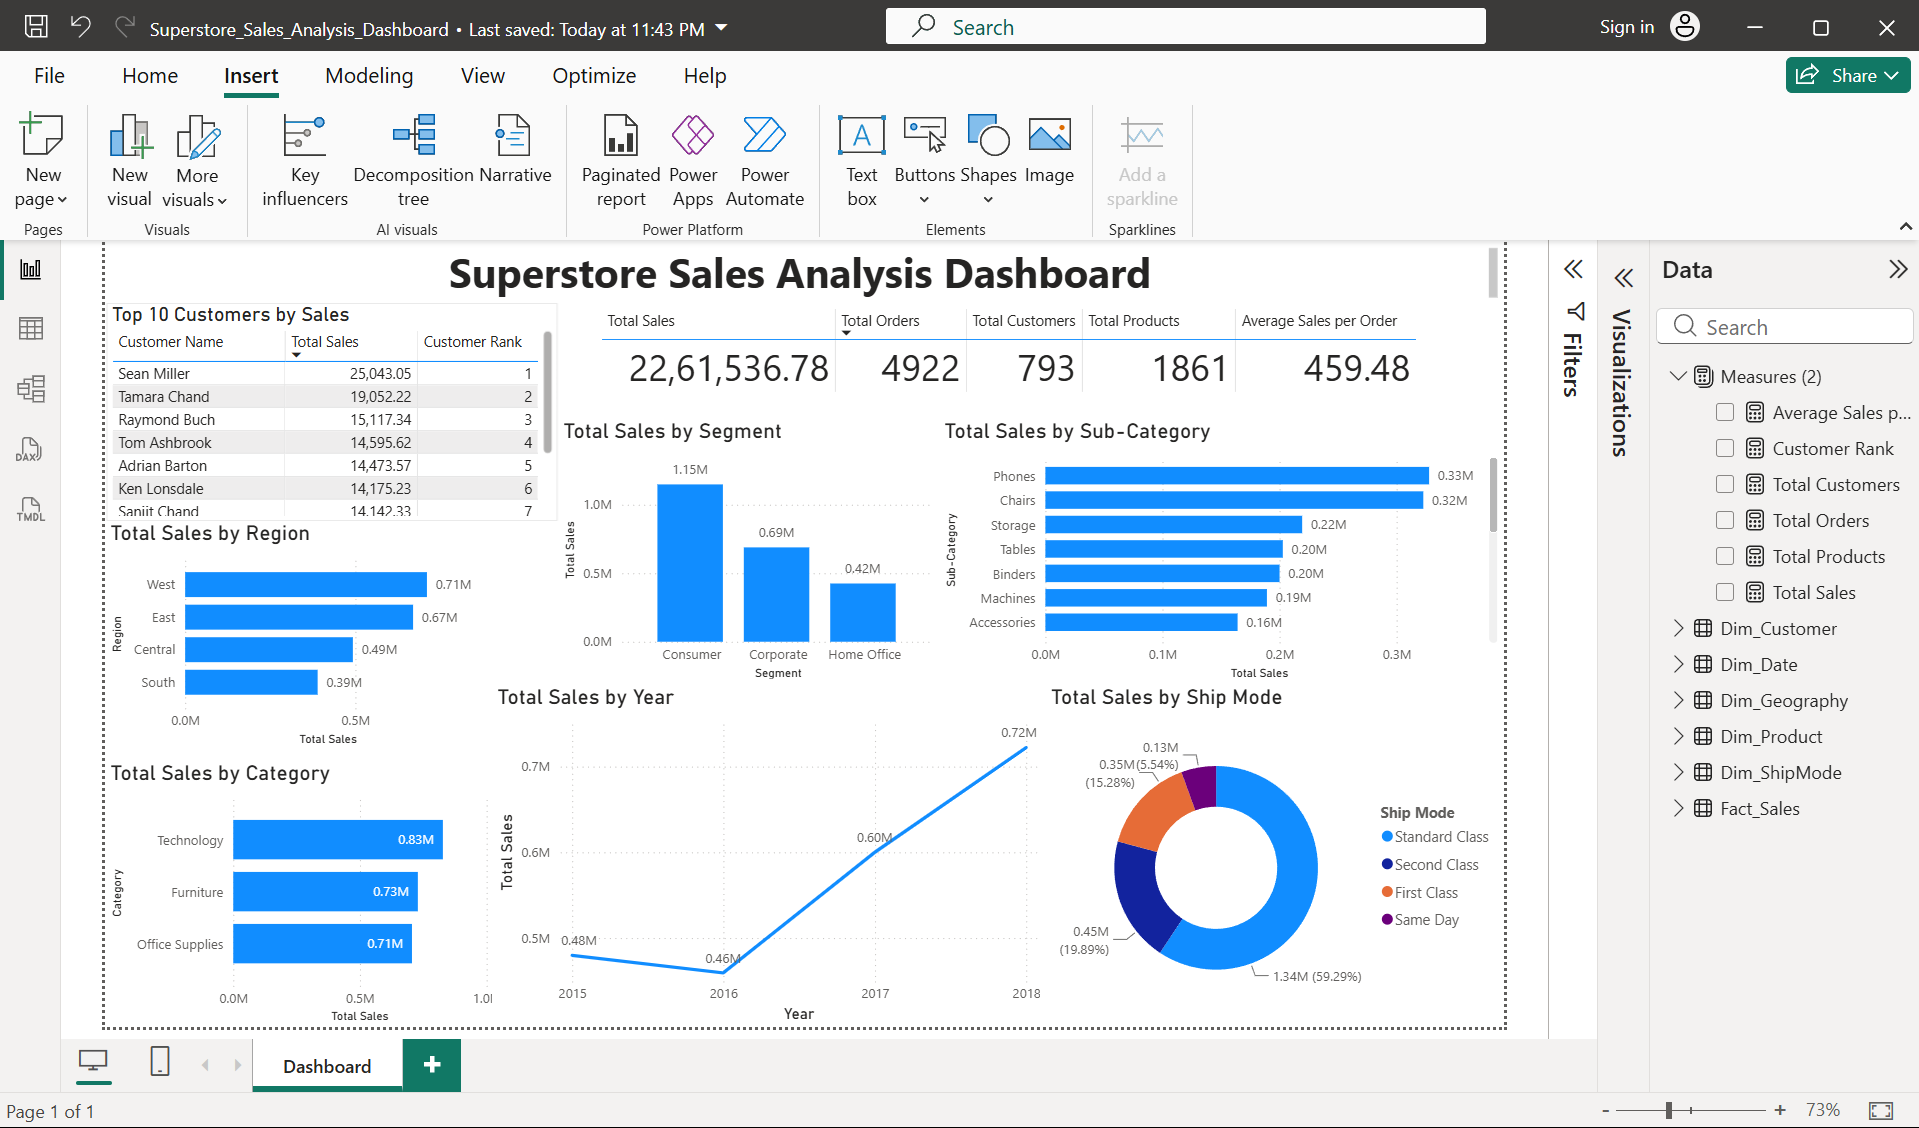

This screenshot's page, from the dashboard's own definition file:
{"tool":"powerbi","page":{"name":"Dashboard","canvas":[1280,720],"ordinal":0},"visuals":[{"type":"tableEx","fields":{"Values":["Measures (2).Total Sales","Measures (2).Total Orders","Measures (2).Total Customers","Measures (2).Total Products","Measures (2).Average Sales per Order"]},"box":[448.8,57.6,831.6,105.7],"z":0},{"type":"barChart","fields":{"Category":["Dim_Geography.Region"],"Y":["Measures (2).Total Sales"]},"box":[0,256.6,354.1,210],"z":1000},{"type":"clusteredBarChart","fields":{"Category":["Dim_Product.Category"],"Y":["Measures (2).Total Sales"]},"box":[0,476.2,367.8,244.3],"z":2000},{"type":"clusteredColumnChart","fields":{"Category":["Dim_Customer.Segment"],"Y":["Measures (2).Total Sales"]},"box":[414.4,163.3,348.6,242.9],"z":3000},{"type":"lineChart","fields":{"Category":["Dim_Date.Date.Variation.Date Hierarchy.Year","Dim_Date.Date.Variation.Date Hierarchy.Quarter","Dim_Date.Date.Variation.Date Hierarchy.Month","Dim_Date.Date.Variation.Date Hierarchy.Day"],"Y":["Measures (2).Total Sales"]},"box":[354.1,406.2,506.4,314.3],"z":4000},{"type":"clusteredBarChart","fields":{"Category":["Dim_Product.Sub-Category"],"Y":["Measures (2).Total Sales"]},"box":[763,163.3,516,242.9],"z":5000},{"type":"donutChart","fields":{"Category":["Dim_ShipMode.Ship Mode"],"Y":["Measures (2).Total Sales"]},"box":[859.8,406.3,419.5,313.7],"z":6000},{"type":"tableEx","title":"Top 10 Customers by Sales","fields":{"Values":["Dim_Customer.Customer Name","Measures (2).Total Sales","Measures (2).Customer Rank"]},"box":[1.4,57.6,413.1,199],"z":7000},{"type":"textbox","box":[1.4,0,1277.6,57.6],"z":7001}]}

Visuals, with their boxes on the page's 1280x720 design canvas (x1, y1, x2, y2). These are canvas units, not pixel positions in the 1919x1128 screenshot, which may show the page scaled, cropped or inside an application window:
tableEx - Measures (2).Total Sales x Measures (2).Total Orders: locate(449, 58, 1280, 163)
barChart - Dim_Geography.Region x Measures (2).Total Sales: locate(0, 257, 354, 467)
clusteredBarChart - Dim_Product.Category x Measures (2).Total Sales: locate(0, 476, 368, 720)
clusteredColumnChart - Dim_Customer.Segment x Measures (2).Total Sales: locate(414, 163, 763, 406)
lineChart - Dim_Date.Date.Variation.Date Hierarchy.Year x Dim_Date.Date.Variation.Date Hierarchy.Quarter: locate(354, 406, 860, 720)
clusteredBarChart - Dim_Product.Sub-Category x Measures (2).Total Sales: locate(763, 163, 1279, 406)
donutChart - Dim_ShipMode.Ship Mode x Measures (2).Total Sales: locate(860, 406, 1279, 720)
"Top 10 Customers by Sales" tableEx: locate(1, 58, 414, 257)
textbox: locate(1, 0, 1279, 58)
